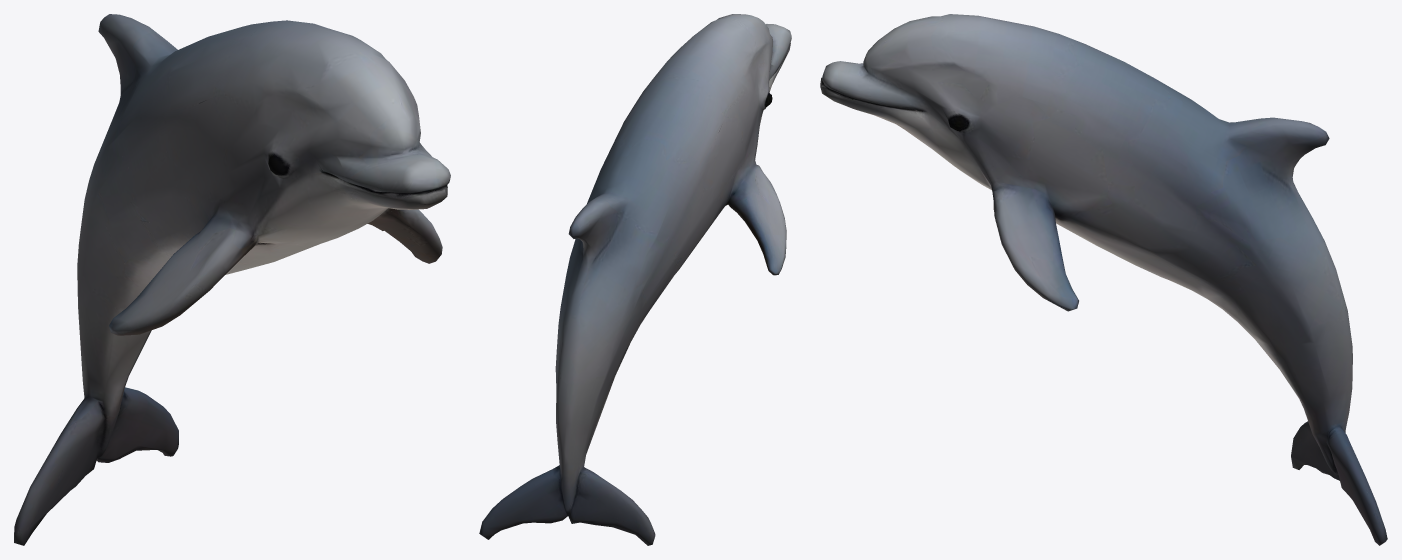
The model's file is dolphin.glb.
The picture shows the model from 3 angles, left to right: view 1: azimuth 30°, elevation 25°; view 2: azimuth 150°, elevation 25°; view 3: azimuth 270°, elevation 25°; orthographic projection. The views are drawn at different scales.
Parts seen in each view (by area): view 1: tripo_node_951502ae-ea47-4bb2-87a3-40ba8db103b3; view 2: tripo_node_951502ae-ea47-4bb2-87a3-40ba8db103b3; view 3: tripo_node_951502ae-ea47-4bb2-87a3-40ba8db103b3.
Boxes of the visible parts, box(x1,y1,x2,y2) form: tripo_node_951502ae-ea47-4bb2-87a3-40ba8db103b3: box(14, 14, 450, 545); tripo_node_951502ae-ea47-4bb2-87a3-40ba8db103b3: box(479, 14, 791, 545); tripo_node_951502ae-ea47-4bb2-87a3-40ba8db103b3: box(820, 14, 1387, 545).
Bounding box in the file's own units: 0.4986 × 0.9519 × 1.
Materials: 1 (1 with a texture image).
